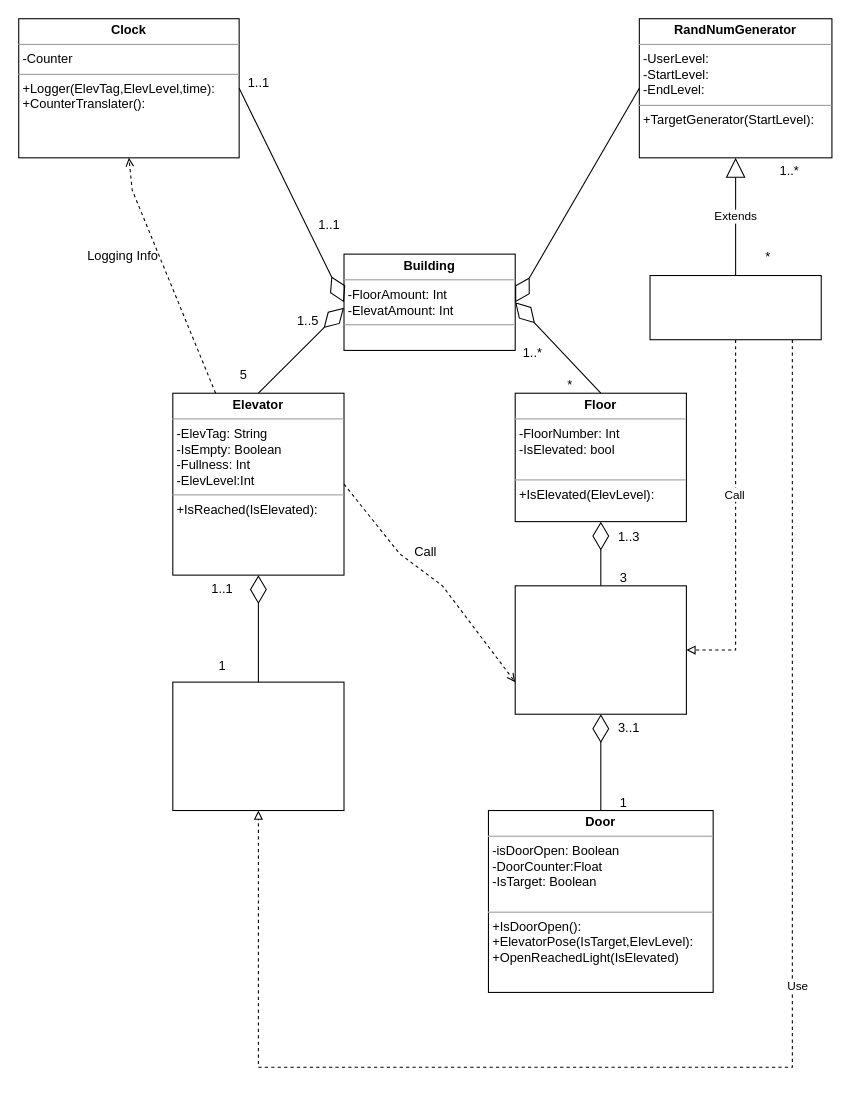
Some shapes in this 851 by 1095 pixel diagram are drawn without their labels. The shapes that lost their labels are listed below. From the top down, each one's box as (x1, y1, x2, y2) in pixels, then its label:
(649, 274, 821, 340): User
(514, 585, 686, 714): CallPanel -CallLevel: Int +callDown():Int +callUp():Int
(172, 681, 344, 811): ControlPanel -TargetList: List<Integer> +targetButton();
